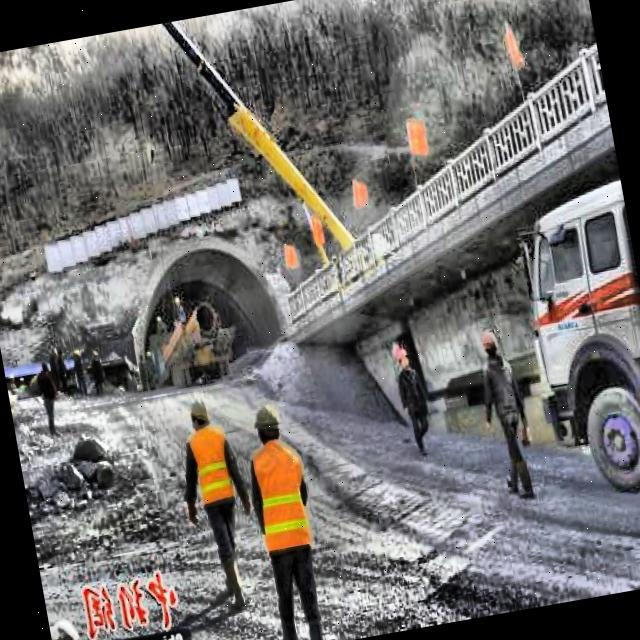helmet: (244, 396, 288, 452), (187, 391, 216, 431), (479, 325, 502, 360), (393, 343, 411, 376)
